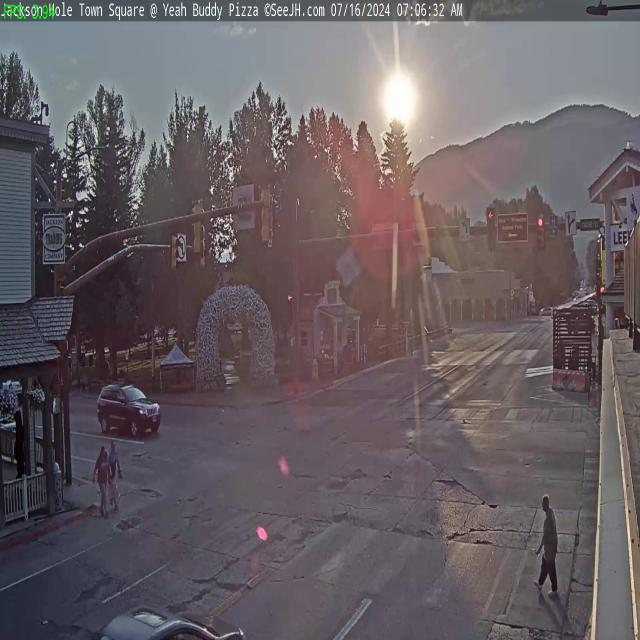person: (534, 494, 561, 594), (106, 431, 122, 510), (95, 444, 112, 518), (14, 411, 26, 499)
suv: (97, 380, 162, 437)
traffic light: (260, 184, 274, 244), (190, 198, 203, 256), (170, 231, 180, 275), (487, 208, 496, 252), (536, 214, 544, 249)
